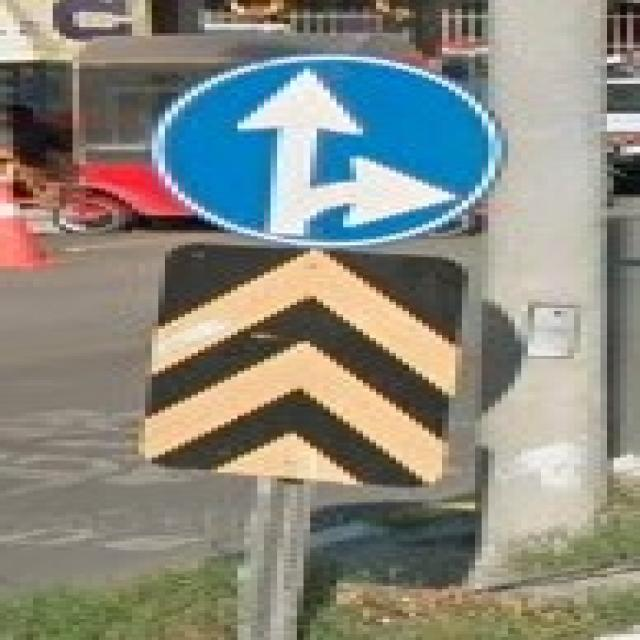Straight or Right: (156, 53, 499, 242)
